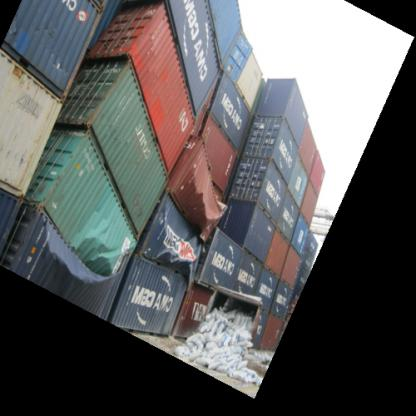Damage: (38, 201, 127, 296), (203, 284, 265, 354), (146, 212, 204, 275), (178, 172, 226, 225)
